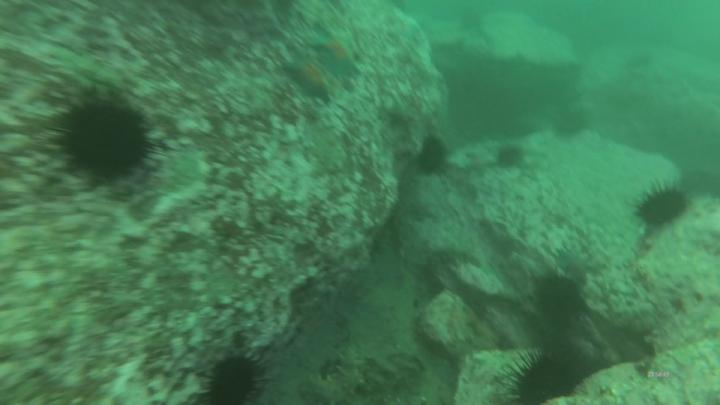echinus: (62, 108, 146, 177), (518, 357, 577, 404), (211, 361, 259, 405), (536, 280, 584, 322), (640, 188, 683, 221), (421, 138, 444, 169), (557, 110, 583, 136), (496, 146, 522, 166)
holothurian: (305, 344, 367, 405)
starfish: (313, 35, 361, 74), (285, 59, 330, 97), (470, 146, 496, 170)
